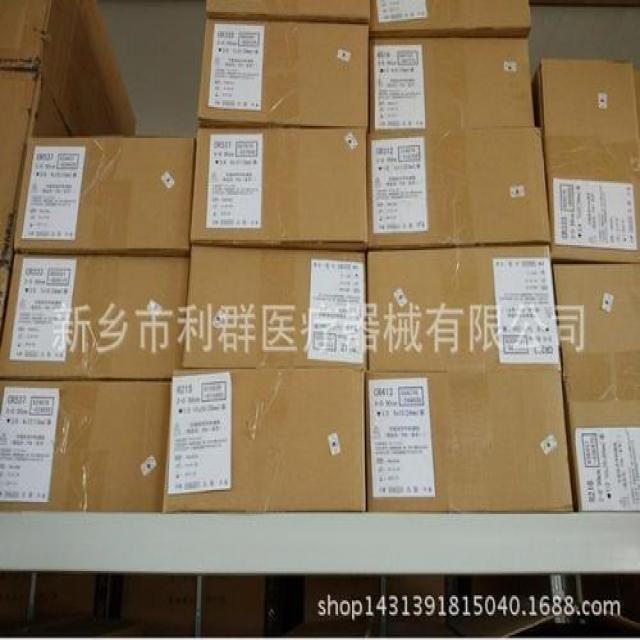box: (360, 368, 586, 526), (161, 369, 371, 518), (0, 366, 173, 520), (184, 113, 370, 254), (188, 238, 374, 378), (366, 242, 558, 374), (364, 126, 557, 256), (0, 253, 188, 386), (551, 248, 640, 518), (12, 129, 192, 262), (530, 55, 640, 262), (189, 18, 376, 126), (361, 34, 538, 129)
